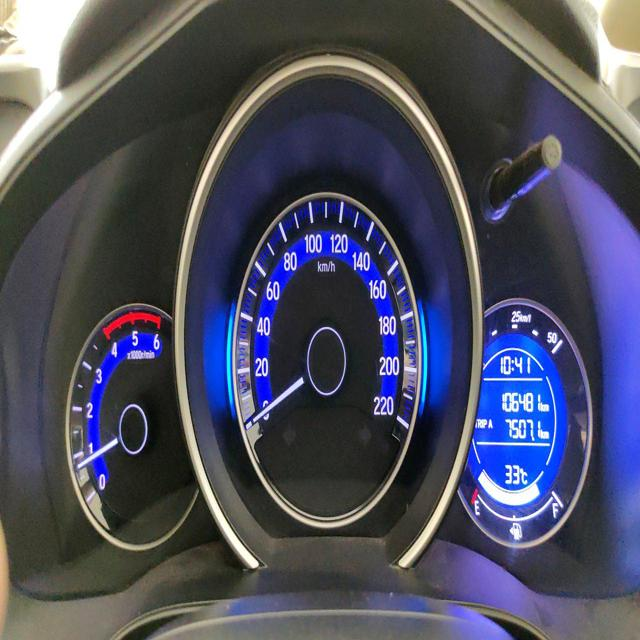odometer: (500, 389, 541, 416)
